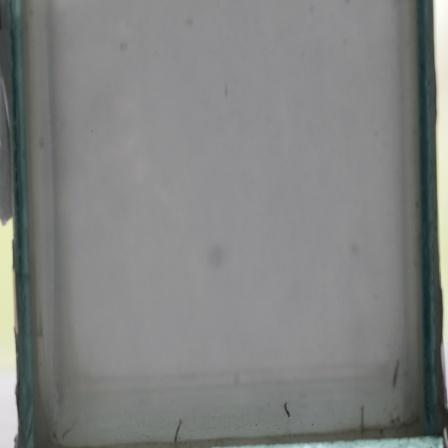Jentik-Nyamuk: (168, 418, 188, 448), (388, 355, 402, 388), (357, 402, 368, 435), (282, 398, 294, 421)
